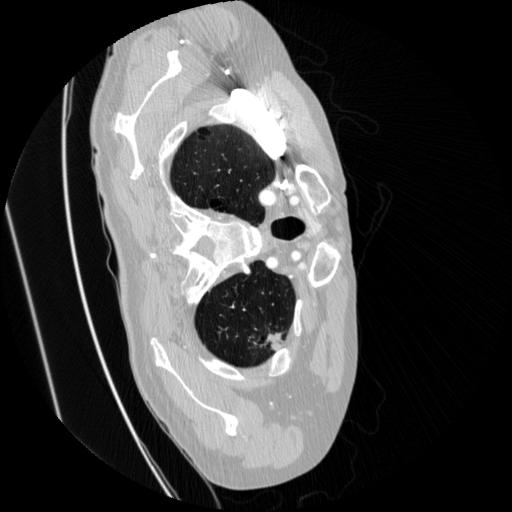nodule: (263, 328, 287, 352)
